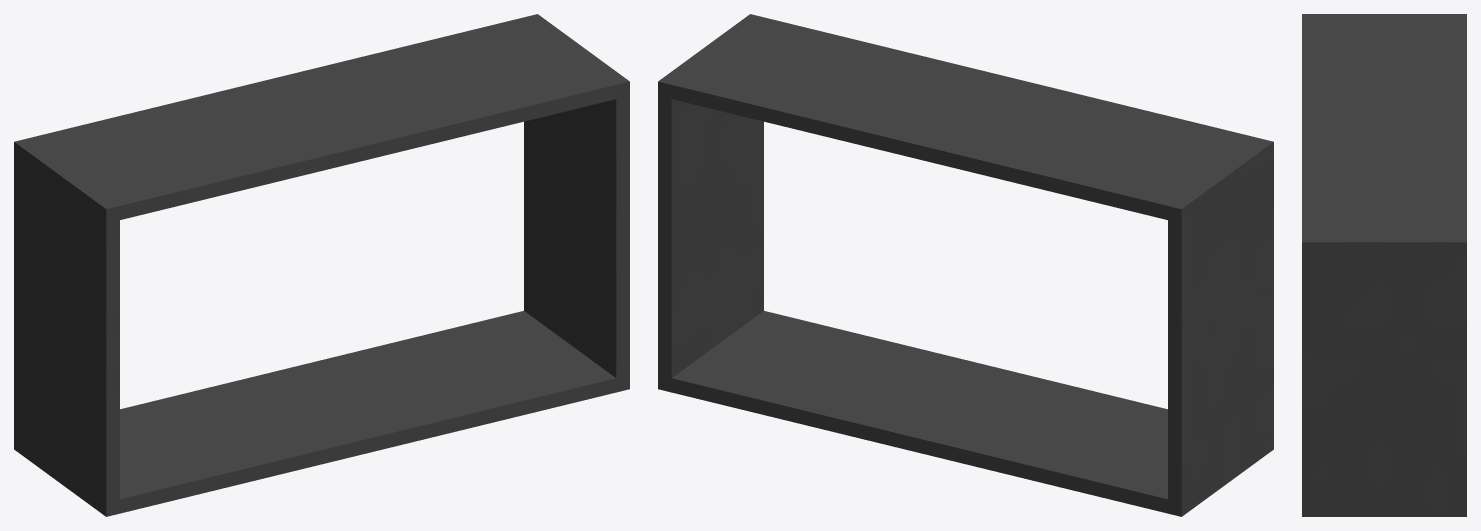
Rendered from Wall_Shelf_01_02.fbx.
3 renders of one model, left to right at view 1: azimuth 30°, elevation 25°; view 2: azimuth 150°, elevation 25°; view 3: azimuth 270°, elevation 25°, orthographic. The views are drawn at different scales.
Visible parts, largest first — view 1: Wall_Shelf_01_02; view 2: Wall_Shelf_01_02; view 3: Wall_Shelf_01_02.
Boxes of the visible parts, left/top/right/bottom form: Wall_Shelf_01_02: left=14, top=14, right=629, bottom=516; Wall_Shelf_01_02: left=658, top=14, right=1273, bottom=516; Wall_Shelf_01_02: left=1302, top=14, right=1466, bottom=516.
Size of the model in its own units: 1.31 by 0.7363 by 0.4.
